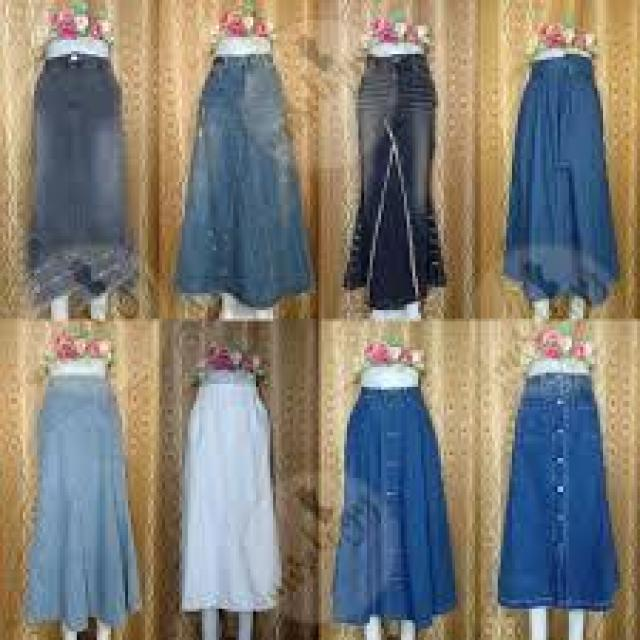skirt: (166, 50, 318, 311), (329, 381, 462, 637), (18, 374, 146, 624), (499, 367, 627, 617), (501, 54, 623, 310), (344, 53, 455, 314), (27, 49, 138, 308), (176, 374, 288, 616)
